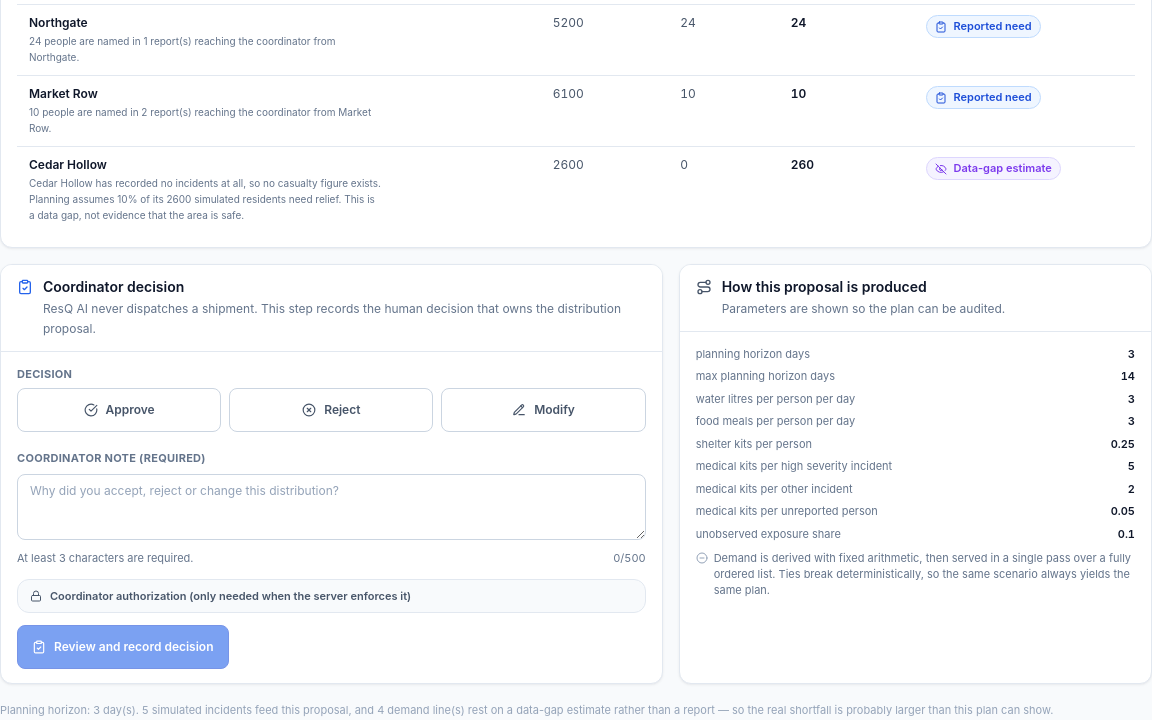
it: ReliefChain — the decision stays with a human › will not submit without a decision and a note, then records both with an idempotency key
The image size is (1152, 720).
(page scrolled)
Expected: the button "Review and record decision" is disabled, [17, 625, 228, 669]
Click the radio button labelled "Approve": click(119, 410) [17, 388, 221, 432]
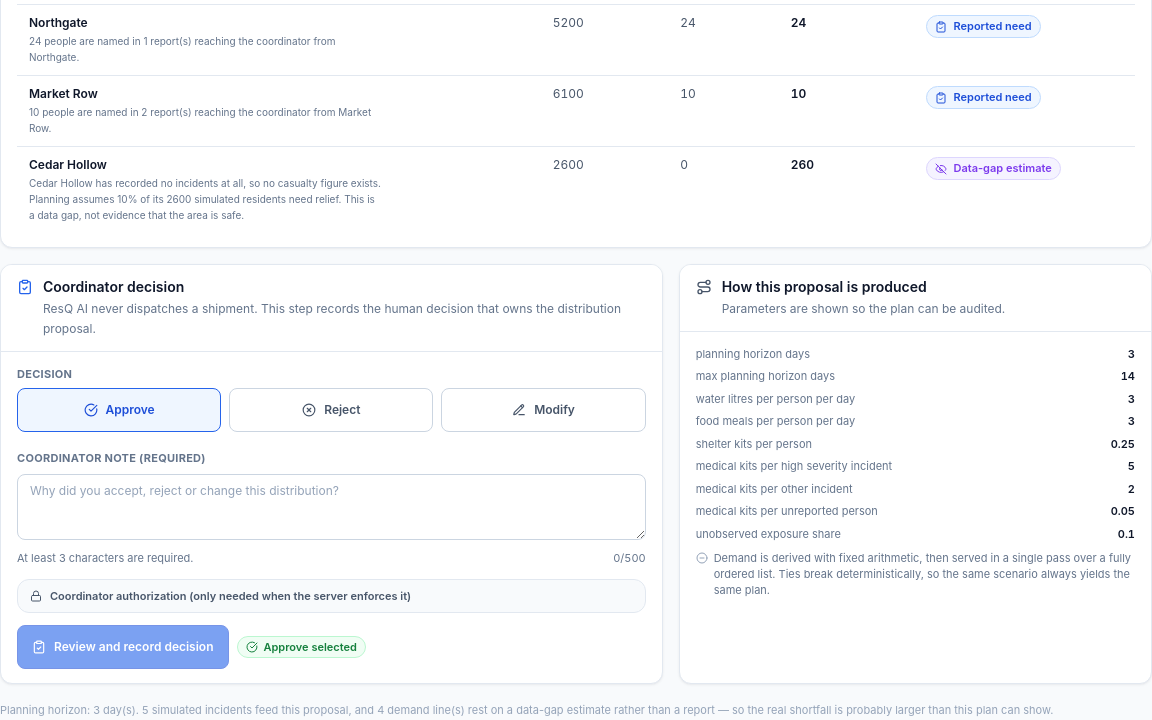
In the text box labelled "Coordinator note (required)": (331, 507) [17, 474, 646, 540], type "Nearest-depot plan looks right"
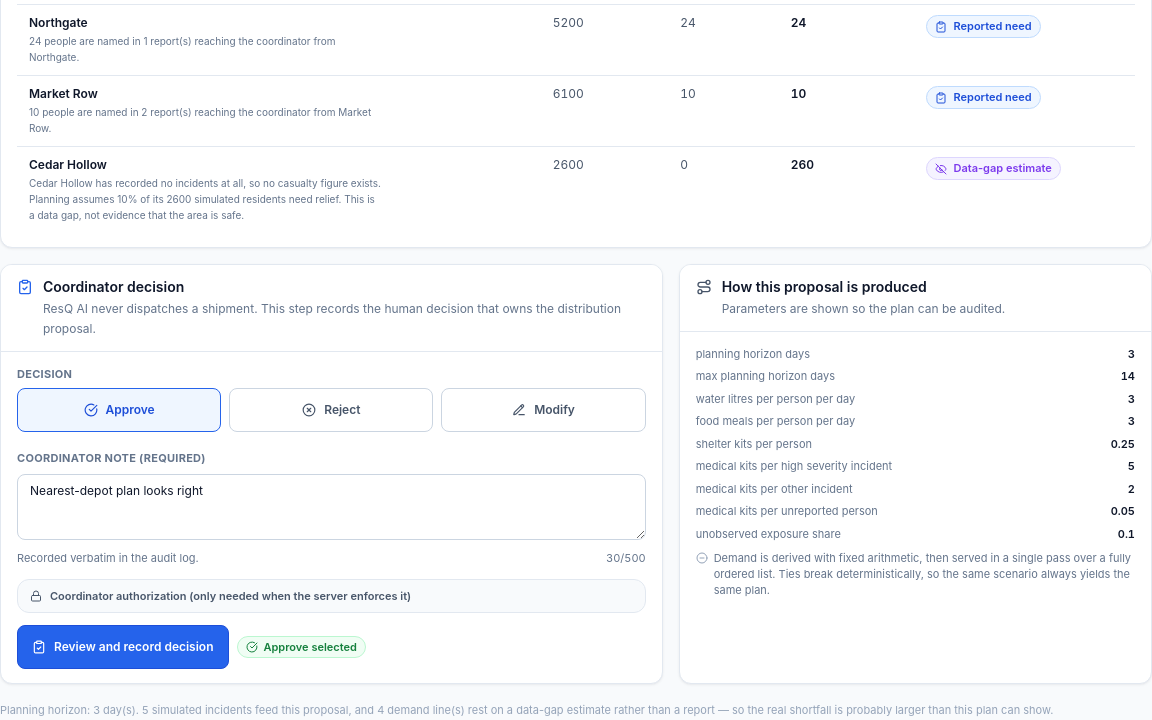
Now the button "Review and record decision" is enabled
Click the button "Review and record decision": click(123, 647) [17, 625, 228, 669]
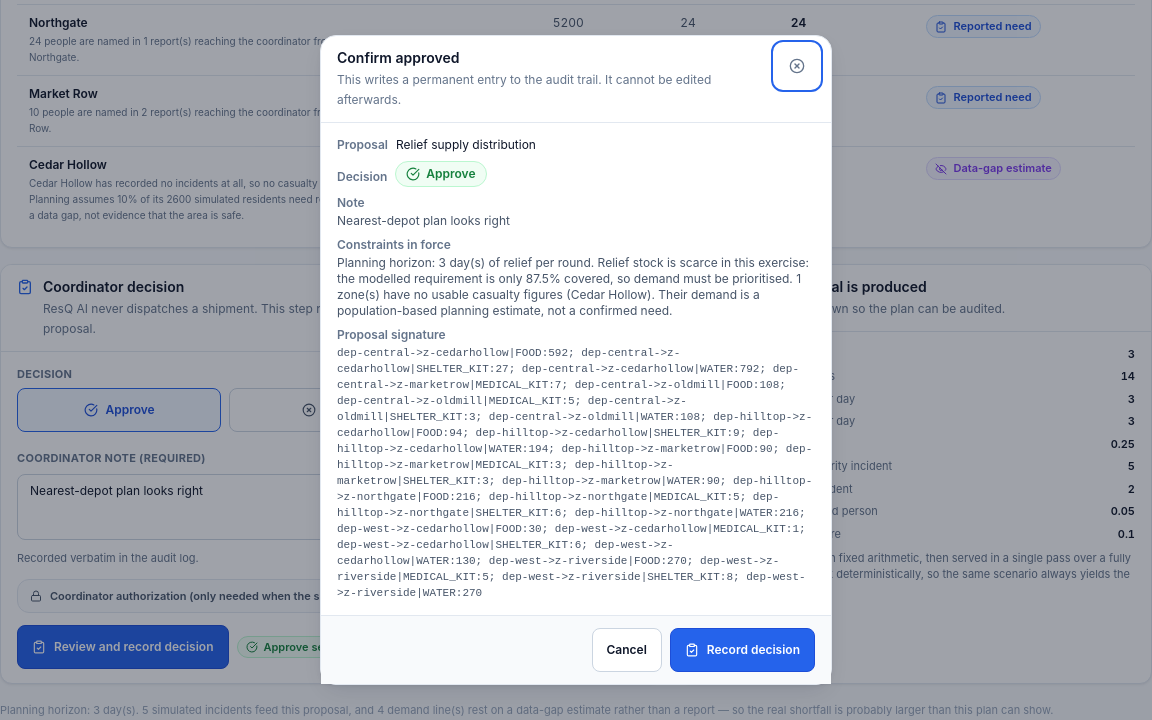
Click the button "Record decision": click(742, 650) [670, 628, 815, 672]
(page scrolled)
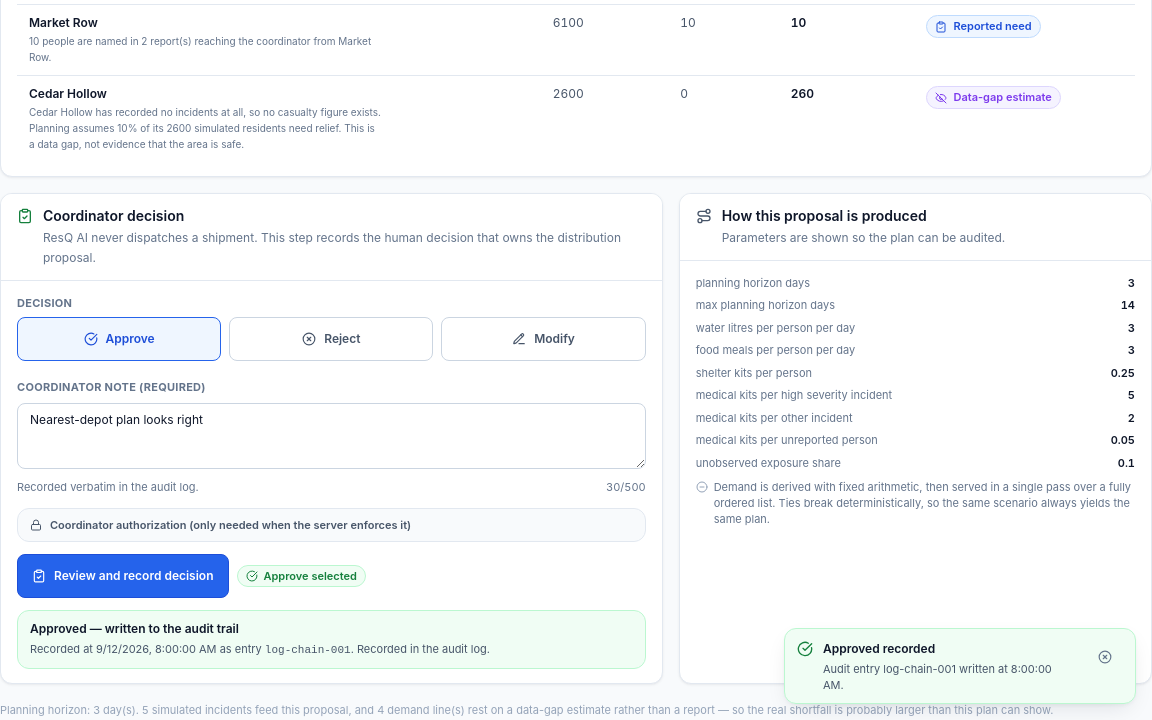
Now the text "Approved — written to the audit trail" is shown, box [30, 621, 239, 636]
Now the text "log-chain-001" is shown, box [265, 644, 351, 656]
